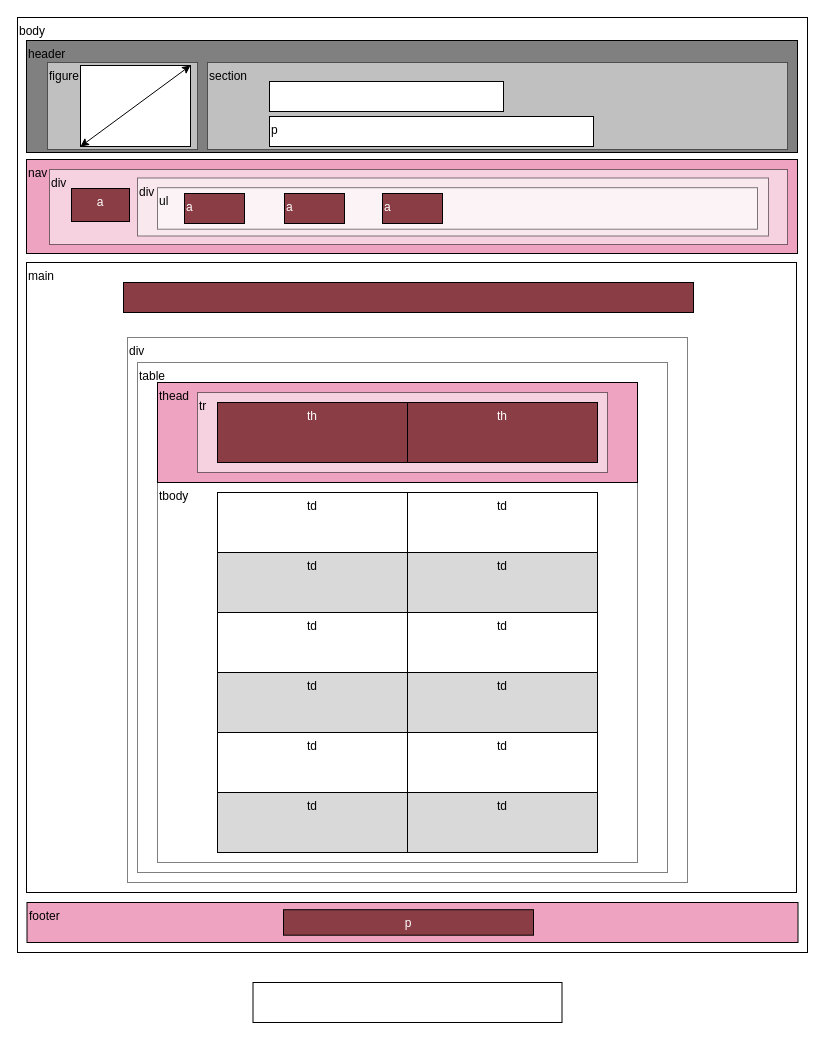
Some shapes in this 825 by 1040 pixel diagram are drawn without their labels. Each missing label, with the centre of its shape:
"h1" goes at [386,96].
"h2" goes at [408,297].
"img" goes at [135,105].
"Statistics page mode large" goes at [407,1002].
